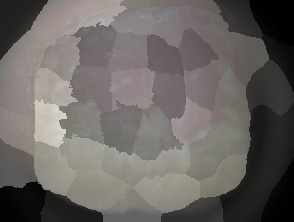Nail_psoriasis: (17, 0, 259, 218)
